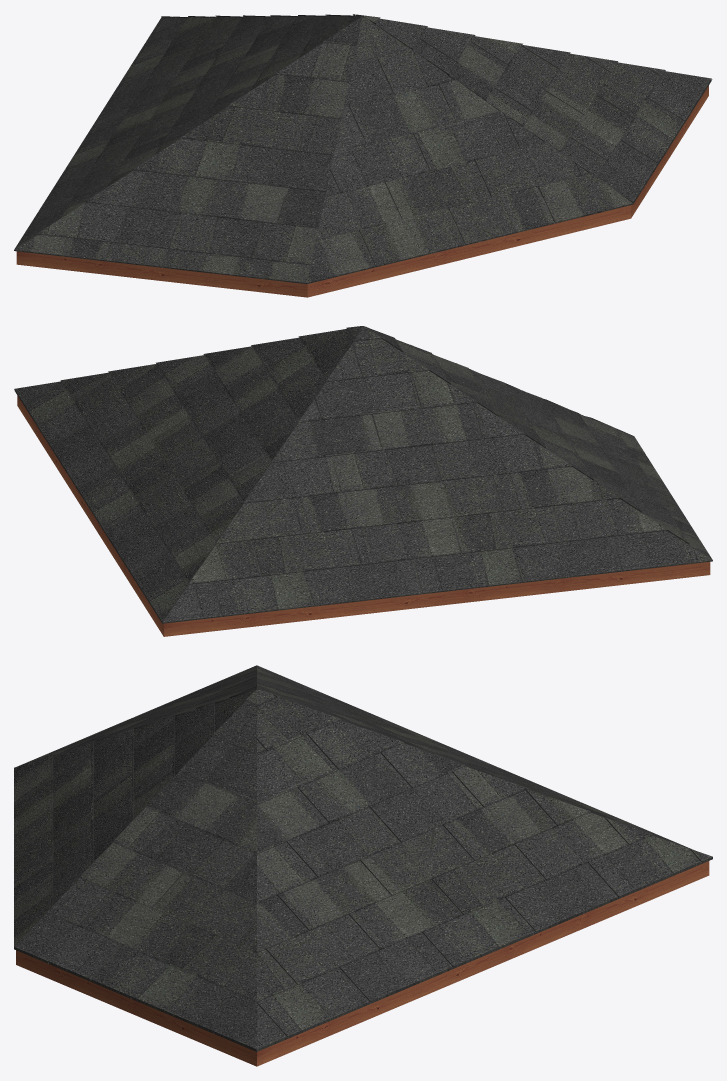
Rendered from Petite Pentagon.obj.
The picture shows the model from 3 angles, top to bottom: view 1: azimuth 30°, elevation 25°; view 2: azimuth 150°, elevation 25°; view 3: azimuth 270°, elevation 25°; orthographic projection. The views are drawn at different scales.
Parts seen in each view (by area): view 1: roof_f, roof_l, roof_r, roof_bl, wood, tar; view 2: roof_bl, roof_br, roof_l, wood, tar; view 3: roof_br, roof_r, roof_f, wood, roof_bl, roof_l, tar.
Boxes of the visible parts, bbox=[...] form: roof_f: bbox=[307, 17, 633, 283]; roof_l: bbox=[14, 16, 362, 283]; roof_r: bbox=[363, 16, 712, 203]; roof_bl: bbox=[14, 15, 361, 249]; wood: bbox=[16, 85, 708, 297]; tar: bbox=[62, 17, 697, 278]; roof_bl: bbox=[162, 326, 712, 623]; roof_br: bbox=[14, 326, 363, 623]; roof_l: bbox=[364, 326, 712, 559]; wood: bbox=[17, 395, 710, 636]; tar: bbox=[64, 336, 676, 616]; roof_br: bbox=[257, 689, 712, 1051]; roof_r: bbox=[14, 689, 256, 1051]; roof_f: bbox=[14, 690, 255, 946]; wood: bbox=[16, 861, 709, 1066]; roof_bl: bbox=[257, 665, 691, 851]; roof_l: bbox=[19, 665, 256, 765]; tar: bbox=[48, 734, 700, 1036].
Size of the model in its own units: 153 by 34.37 by 117.
2 materials, 2 textured.
